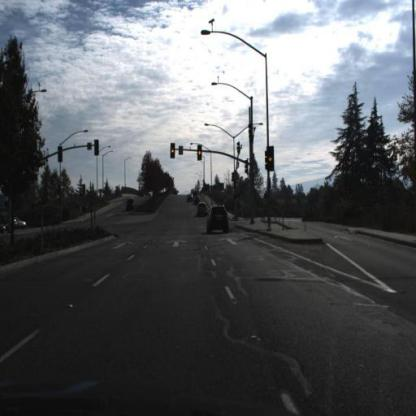car: (207, 204, 229, 234), (12, 217, 27, 230), (196, 203, 207, 218), (127, 200, 135, 214), (187, 194, 195, 204), (195, 198, 201, 206)
trafficLight-Yellow: (267, 147, 276, 174), (197, 145, 204, 162), (171, 144, 177, 159)
